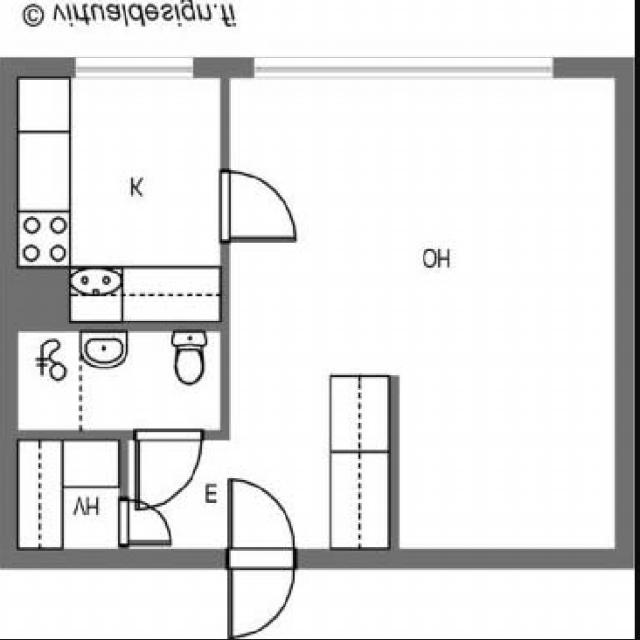door: (227, 549, 294, 637), (227, 479, 294, 567), (220, 170, 295, 239), (136, 431, 201, 508), (118, 501, 168, 544)
